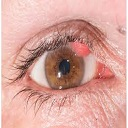Wart: (73, 38, 93, 58)
